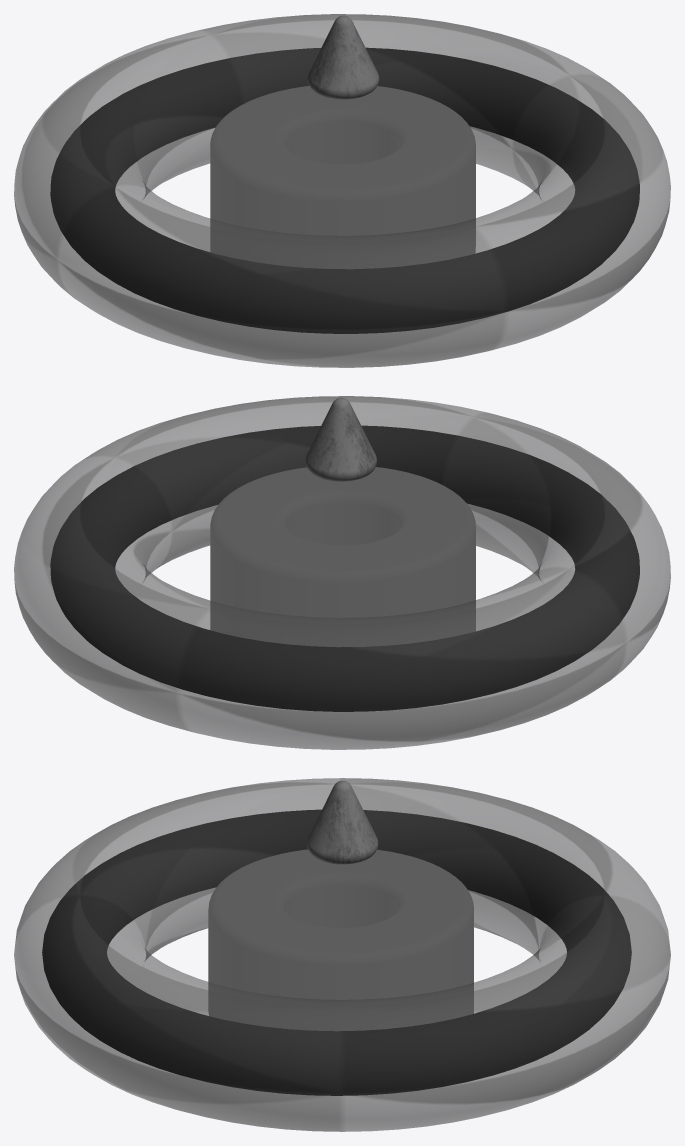
Rendered from GlassDougnutCommunicationUnit-blck-v58.glb.
3 renders of one model, top to bottom at view 1: azimuth 30°, elevation 25°; view 2: azimuth 150°, elevation 25°; view 3: azimuth 270°, elevation 25°, orthographic.
Parts seen in each view (by area): view 1: Torus, Torus 1, Tube, Cone; view 2: Torus, Torus 1, Tube, Cone; view 3: Torus, Torus 1, Tube, Cone.
Part boxes in pixels (x1,y1,x2,y2): Torus: [14, 14, 670, 367]; Torus 1: [50, 47, 639, 333]; Tube: [210, 86, 475, 268]; Cone: [308, 15, 379, 99]; Torus: [14, 396, 670, 749]; Torus 1: [50, 425, 639, 711]; Tube: [210, 467, 475, 647]; Cone: [305, 397, 376, 481]; Torus: [14, 778, 670, 1131]; Torus 1: [42, 809, 631, 1095]; Tube: [208, 849, 473, 1030]; Cone: [307, 780, 378, 864].
Size of the model in its own units: 2.7 by 1.09 by 2.7.
4 materials, 2 textured.
